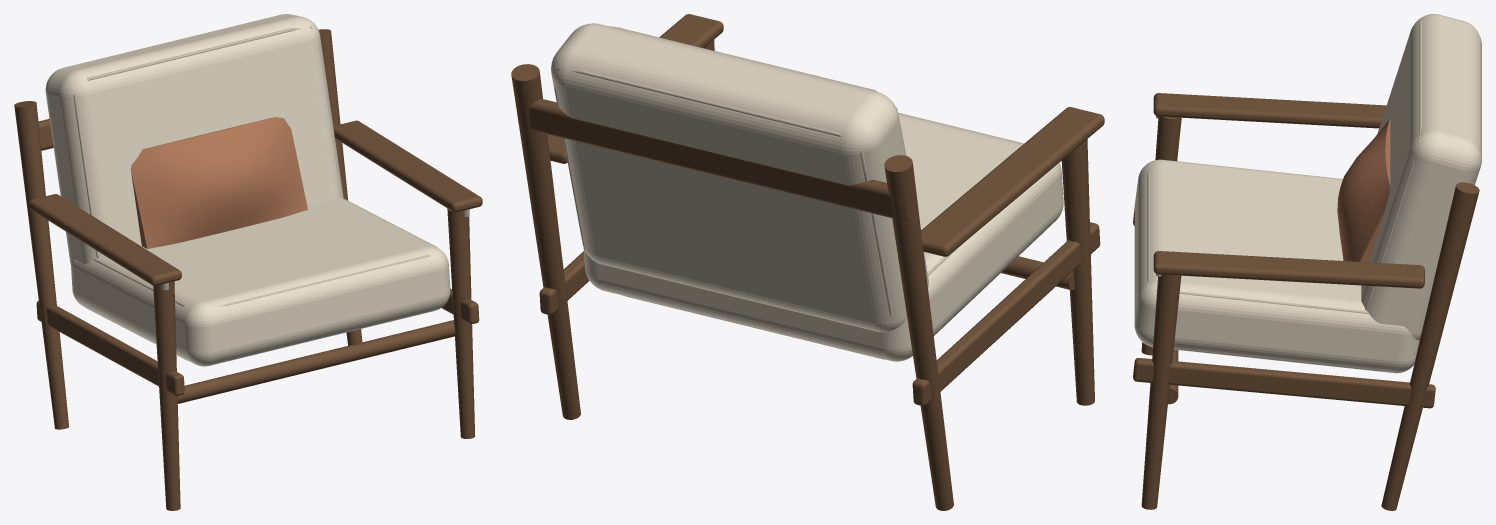
File: atelier-timber-ivory.glb
3 renders of one model, left to right at view 1: azimuth 30°, elevation 25°; view 2: azimuth 150°, elevation 25°; view 3: azimuth 270°, elevation 25°, orthographic. The views are drawn at different scales.
Size of the model in its own units: 0.844 by 0.81 by 0.7149.
